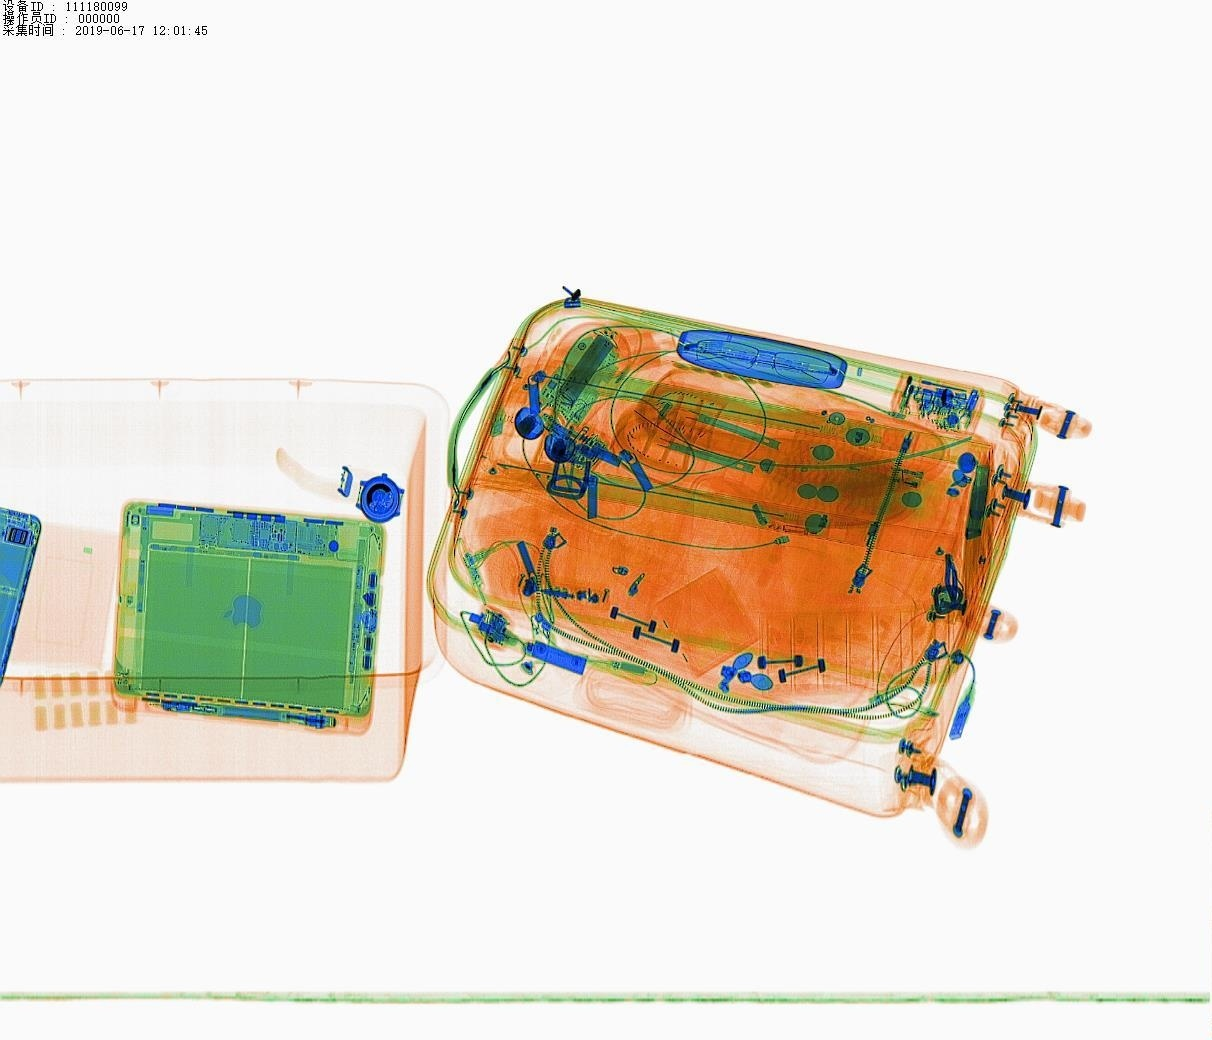NonmetallicFire: (835, 449, 937, 498)
